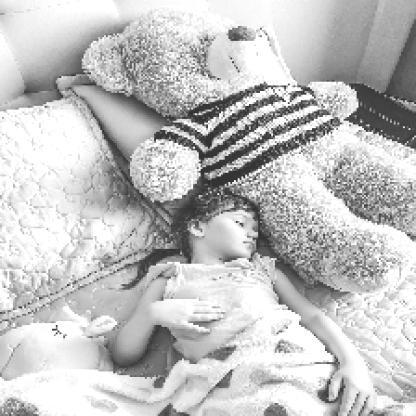child: (112, 189, 380, 416)
